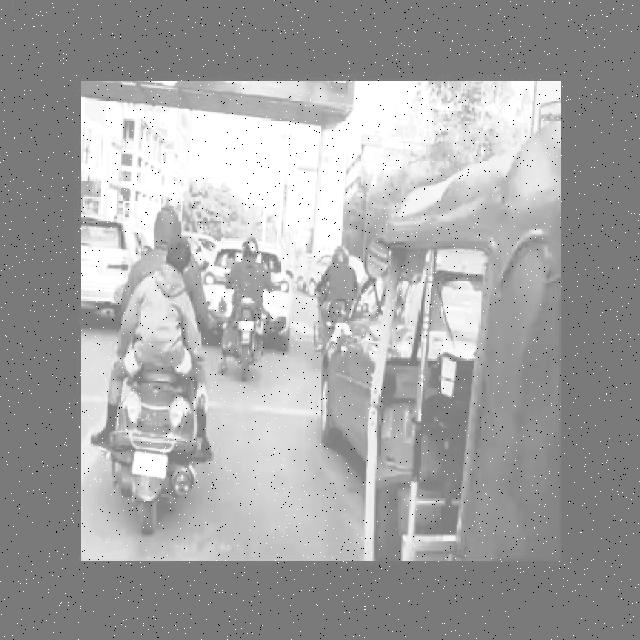Car: (209, 231, 303, 340), (77, 204, 134, 334)
